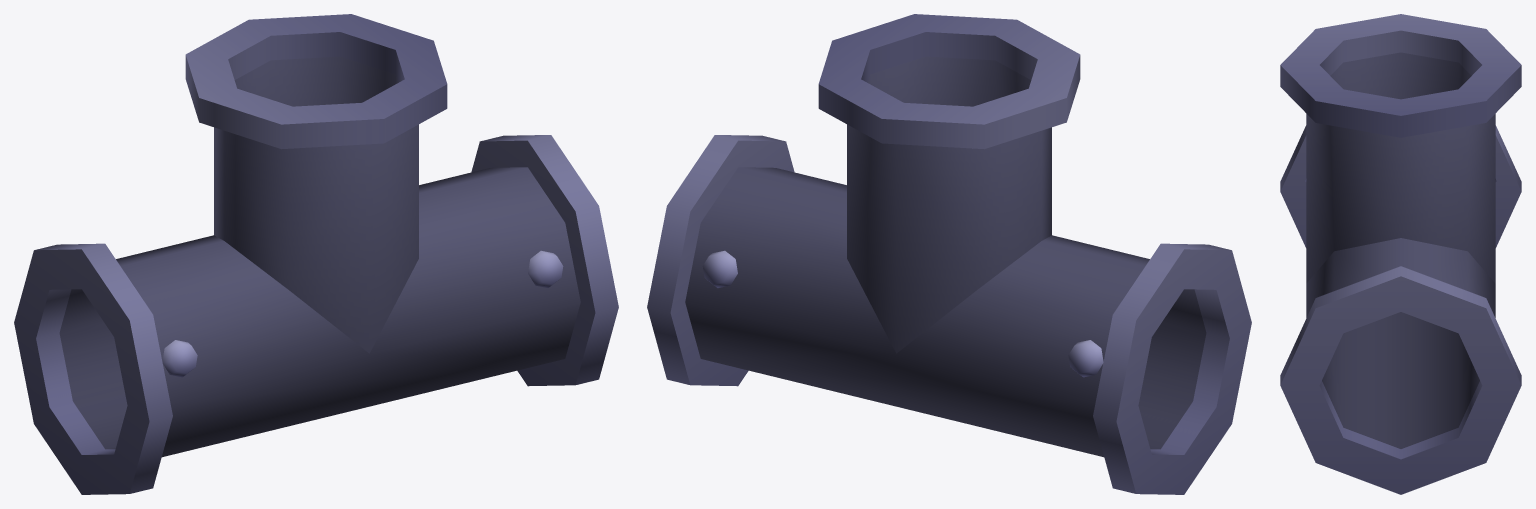
File: kenney-factory-pipe-large-side.glb
3 renders of one model, left to right at view 1: azimuth 30°, elevation 25°; view 2: azimuth 150°, elevation 25°; view 3: azimuth 270°, elevation 25°, orthographic. The views are drawn at different scales.
Parts seen in each view (by area): view 1: pipe-large-side; view 2: pipe-large-side; view 3: pipe-large-side.
Boxes of the visible parts, x1,y1,x2,y2 form: pipe-large-side: (14,14,618,494); pipe-large-side: (647,14,1251,494); pipe-large-side: (1280,14,1521,494).
Size of the model in its own units: 3 by 2.25 by 1.5.
1 material, 1 textured.
